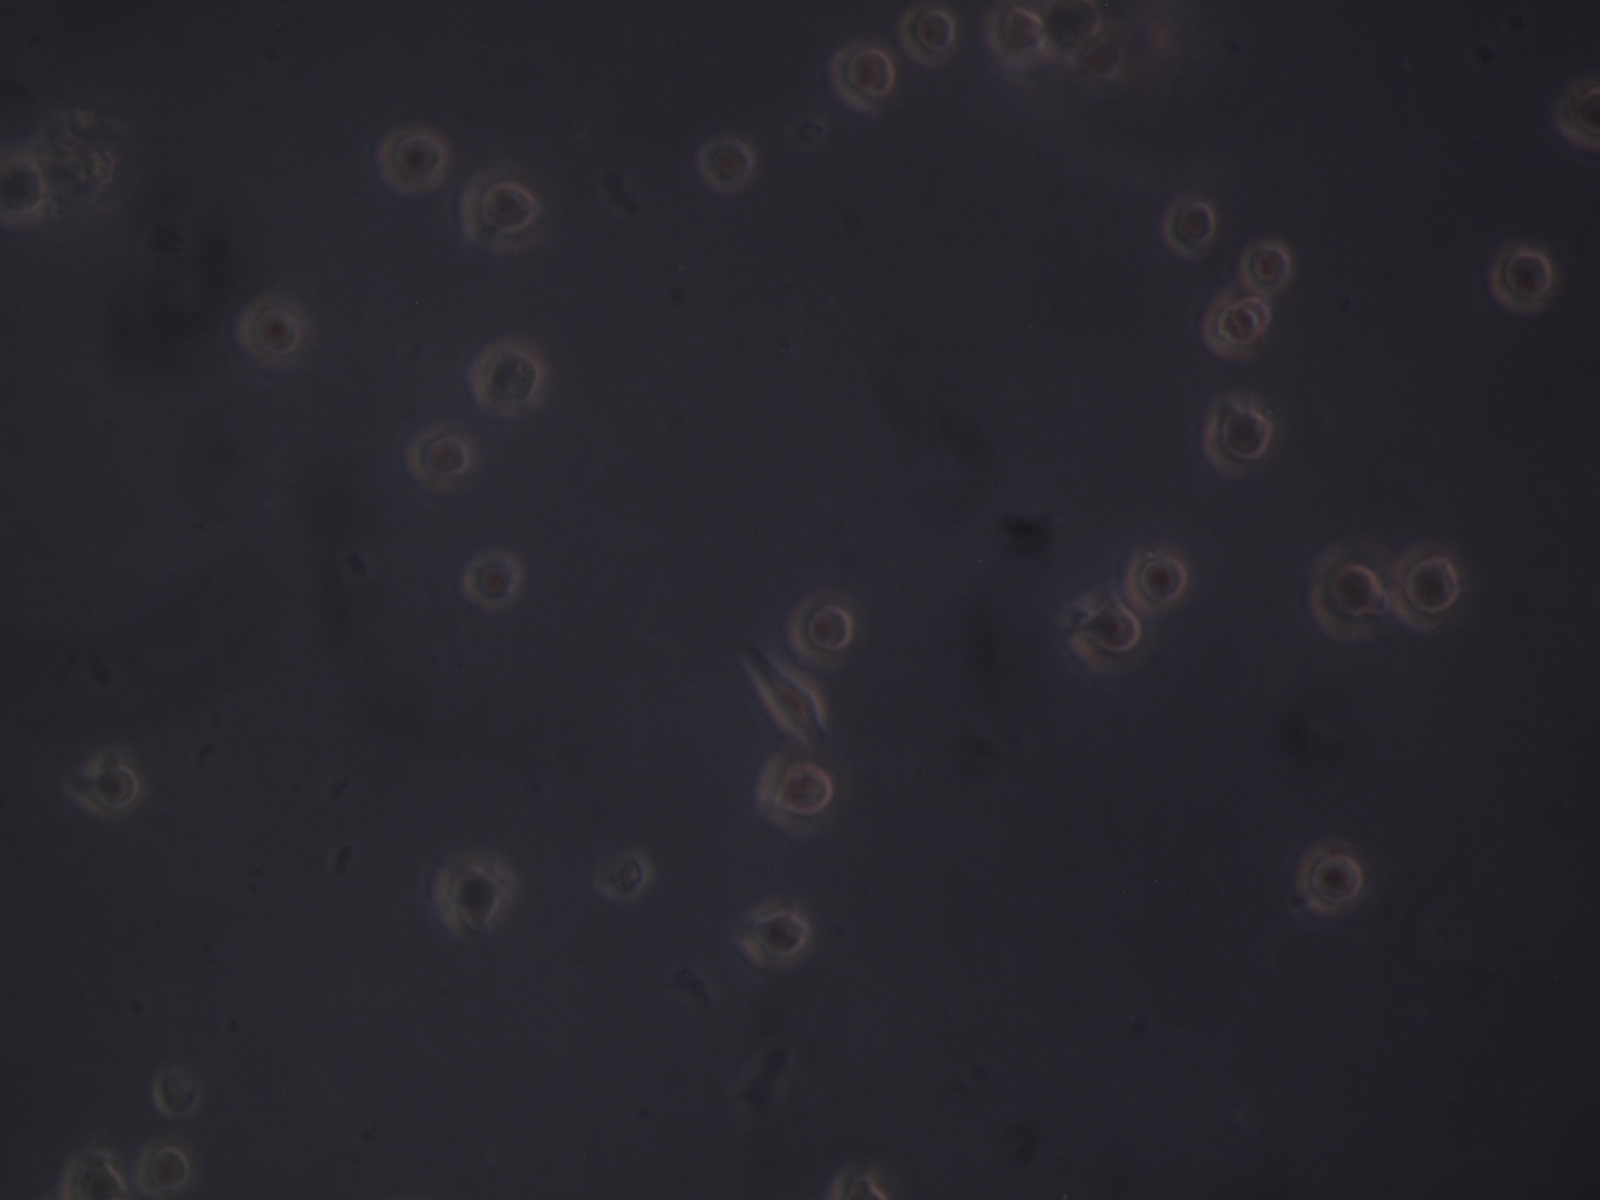hemo: (737, 640, 831, 753), (464, 161, 546, 250), (436, 853, 514, 942), (753, 758, 835, 838), (1308, 553, 1381, 640), (464, 340, 546, 417), (1070, 597, 1141, 676), (1393, 551, 1460, 634), (232, 294, 306, 363), (375, 127, 450, 197), (826, 42, 896, 116), (1207, 402, 1271, 476), (1296, 845, 1362, 915), (787, 596, 850, 669), (401, 425, 470, 489), (1124, 548, 1186, 616), (741, 913, 810, 971), (1488, 250, 1551, 313), (1202, 292, 1259, 361), (76, 756, 140, 813), (988, 1, 1047, 62), (135, 1145, 204, 1196), (460, 553, 524, 609), (591, 847, 653, 903), (896, 5, 956, 61), (698, 135, 756, 192), (62, 1151, 129, 1200), (1, 154, 47, 226), (1162, 197, 1214, 257), (1556, 79, 1600, 150), (1240, 242, 1290, 294), (157, 1068, 202, 1121)
